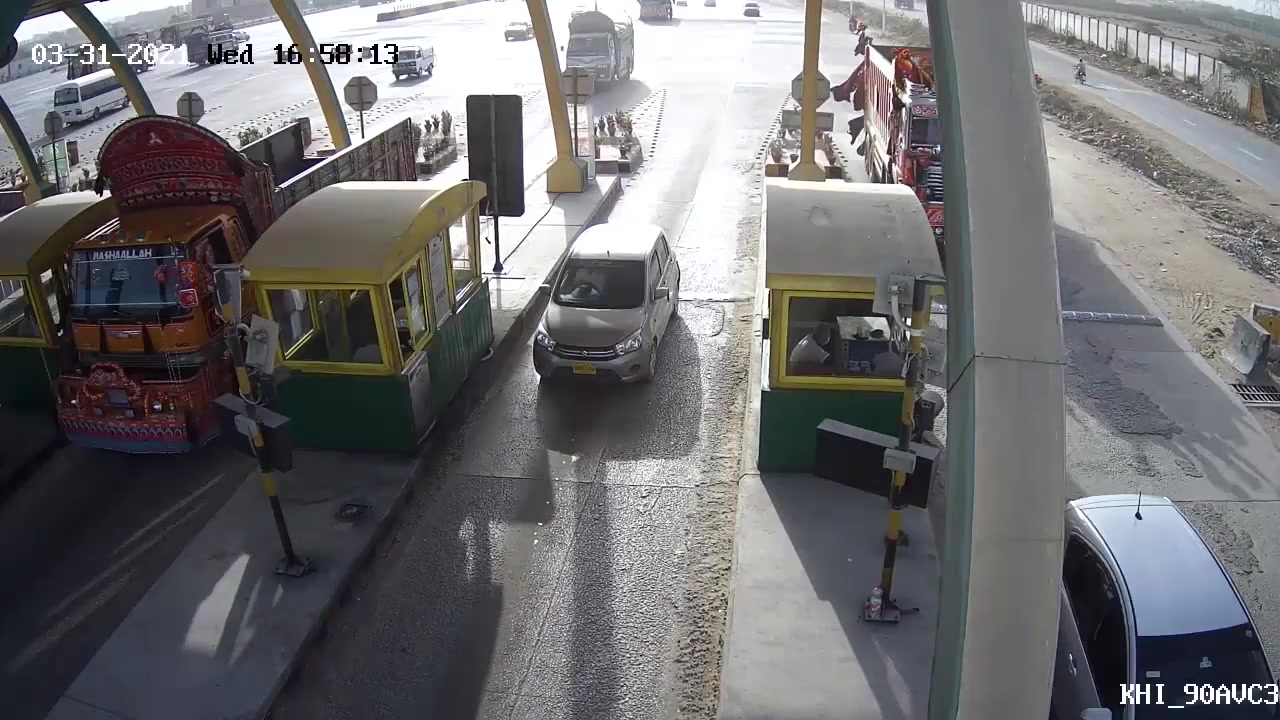F1: (521, 214, 690, 401)
